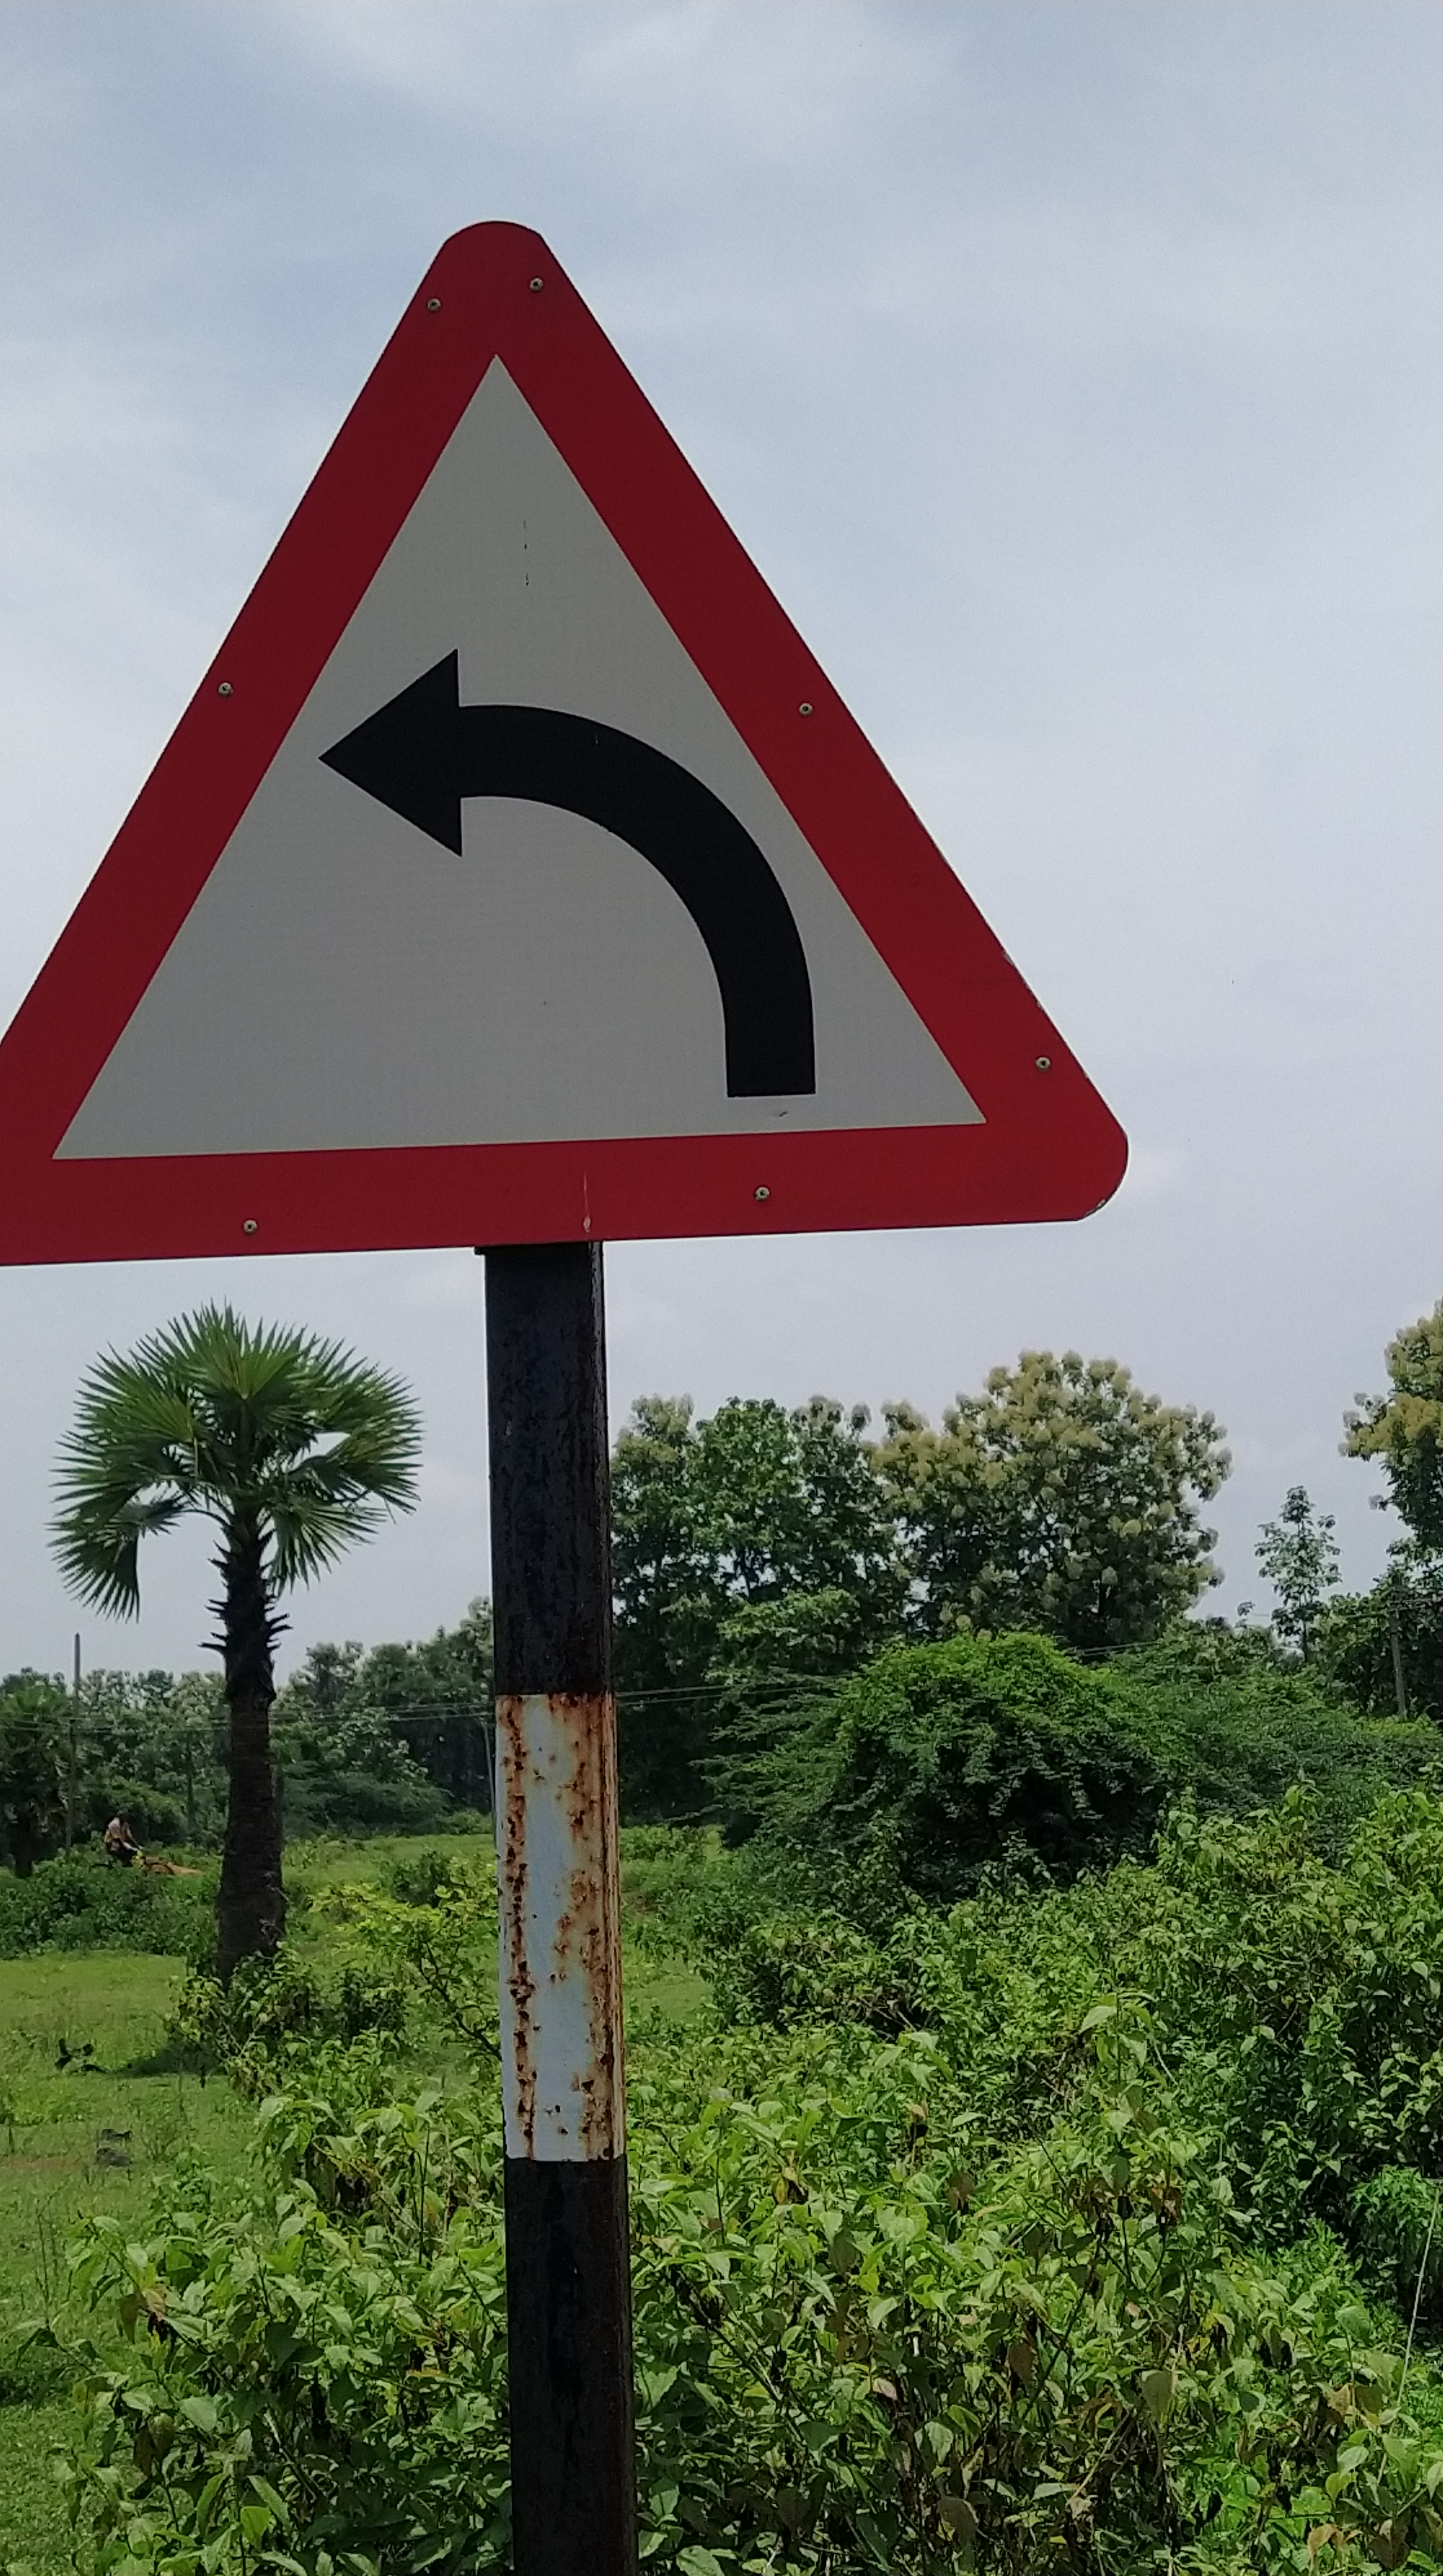Turn left: (7, 211, 1227, 1346)
